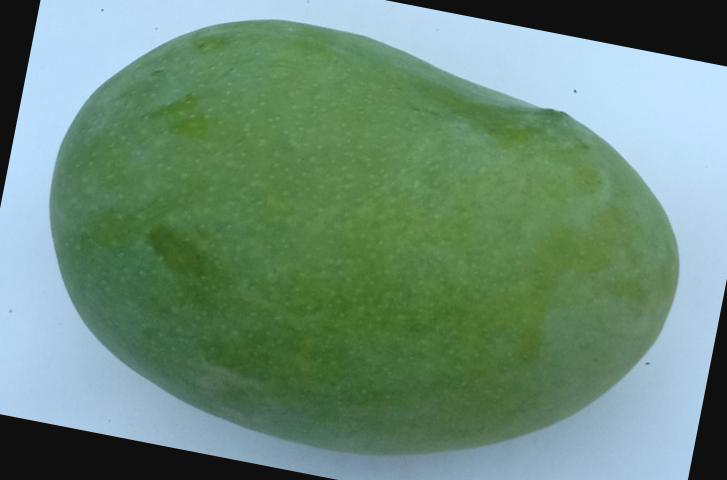Mango Unripe: (4, 0, 727, 478)
